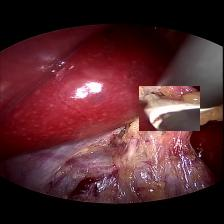Hook: (139, 85, 200, 130)
